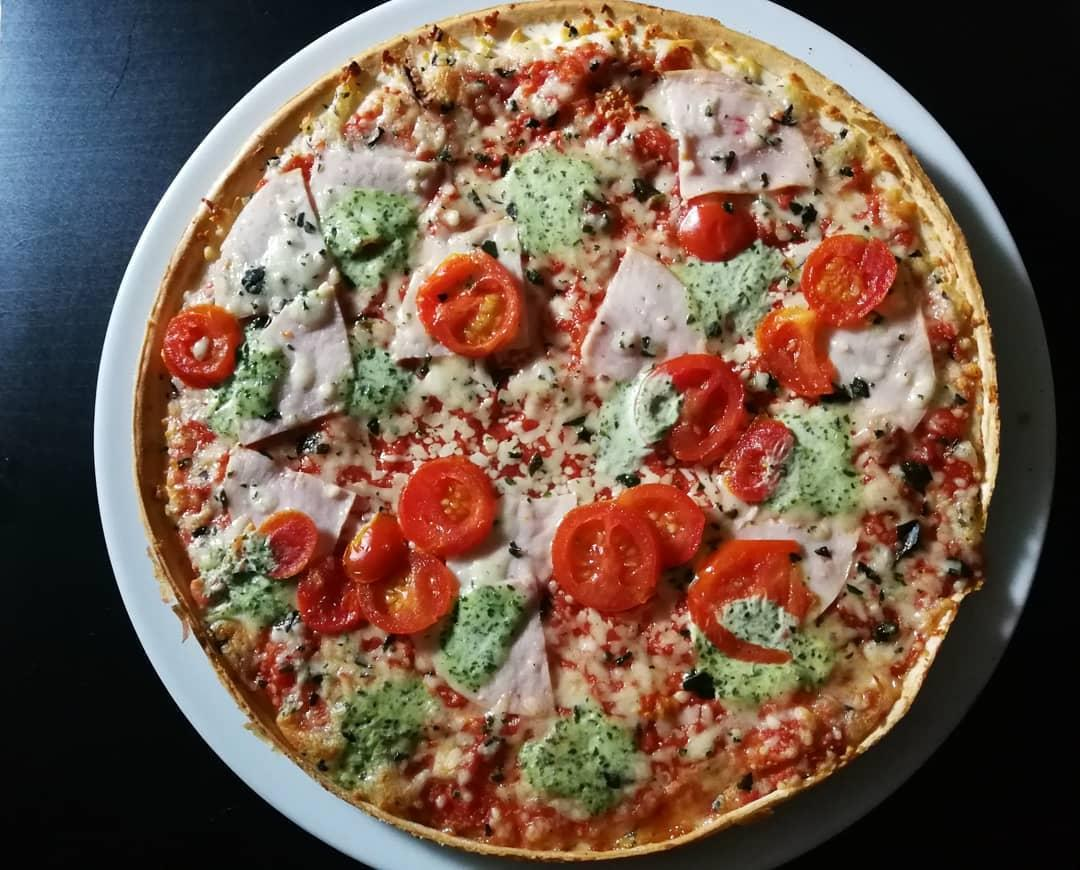Cheese: (687, 466, 856, 608), (444, 552, 561, 719), (241, 286, 363, 421), (224, 174, 336, 310), (591, 249, 700, 365), (217, 447, 339, 547), (654, 77, 780, 170), (842, 306, 931, 432), (686, 122, 820, 191), (501, 486, 580, 540)
Pizza: (137, 13, 1000, 870)
Tomatoes: (689, 539, 805, 665), (637, 357, 747, 466), (556, 505, 655, 613), (420, 249, 516, 354), (363, 545, 461, 641), (804, 235, 897, 322), (404, 458, 495, 538), (617, 488, 701, 570), (726, 421, 795, 508), (760, 313, 836, 391), (679, 195, 753, 261), (166, 304, 236, 370), (300, 557, 357, 631), (255, 509, 311, 572), (338, 518, 402, 573)
